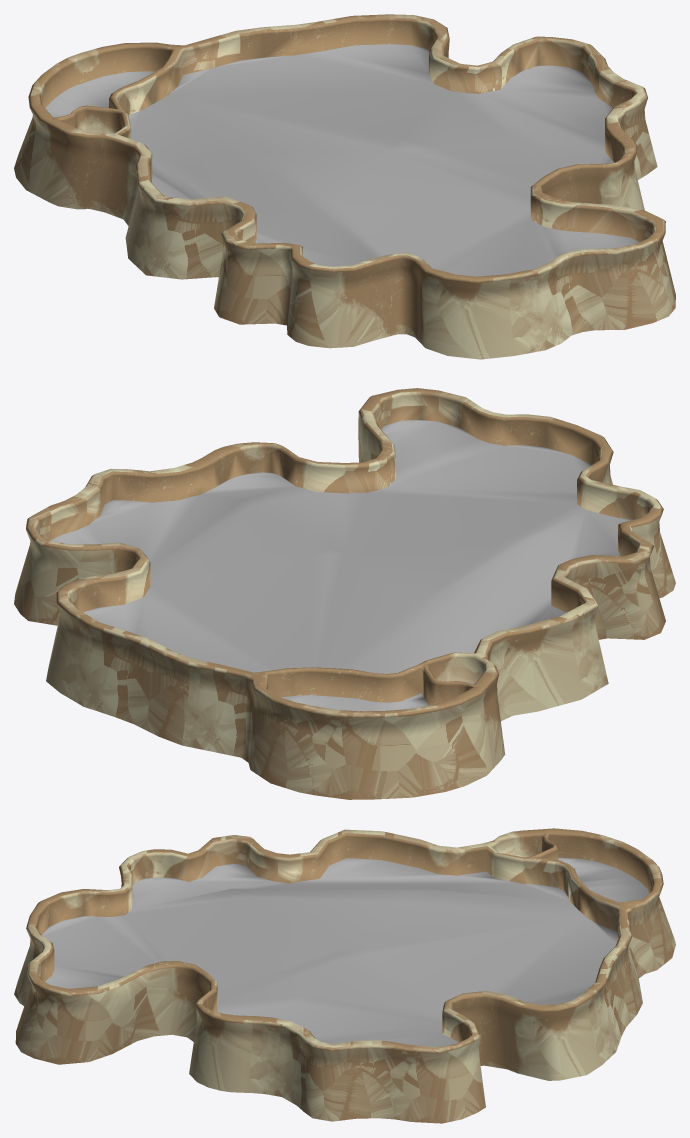
Rendered from Plates_Big_1.fbx.
3 renders of one model, top to bottom at view 1: azimuth 30°, elevation 25°; view 2: azimuth 150°, elevation 25°; view 3: azimuth 270°, elevation 25°, orthographic. The views are drawn at different scales.
Parts seen in each view (by area): view 1: pCylinder4; view 2: pCylinder4; view 3: pCylinder4.
Part boxes in pixels (x1,y1,x2,y2): pCylinder4: (14,14,675,359); pCylinder4: (14,388,675,799); pCylinder4: (14,828,675,1123).
Bounding box in the file's own units: 26.05 × 3.77 × 31.42.
